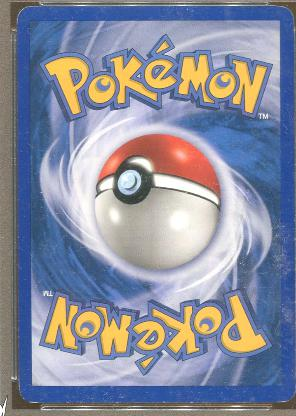Card: (9, 5, 293, 406)
Corner Wear: (16, 374, 39, 404), (13, 6, 30, 30)
Scratch: (262, 216, 293, 278), (166, 386, 259, 402), (267, 296, 293, 352), (74, 384, 132, 404), (235, 286, 267, 308), (234, 252, 255, 284), (168, 6, 199, 18), (278, 120, 289, 136), (27, 142, 37, 152), (50, 243, 59, 253), (26, 252, 35, 260), (26, 26, 32, 36), (17, 264, 22, 270)
